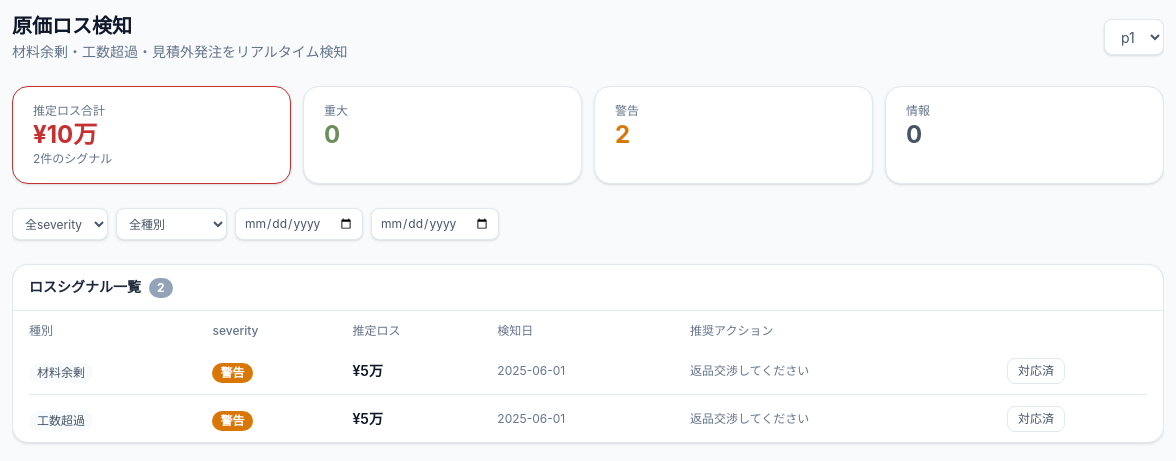
Test: CostLossDashboardPage › kind フィルタが機能する
The image size is (1176, 461).
Select "工数超過" in the dropdown named "kind フィルタ" at (172,224), box [116,208,227,240]
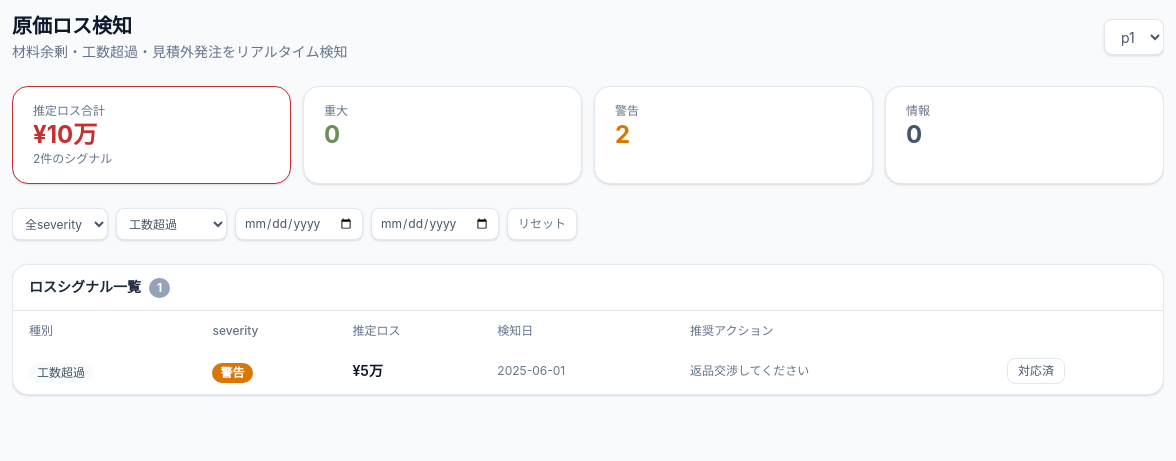
Check: the number of buttons "対応済" is 1, box [1007,358,1065,384]
